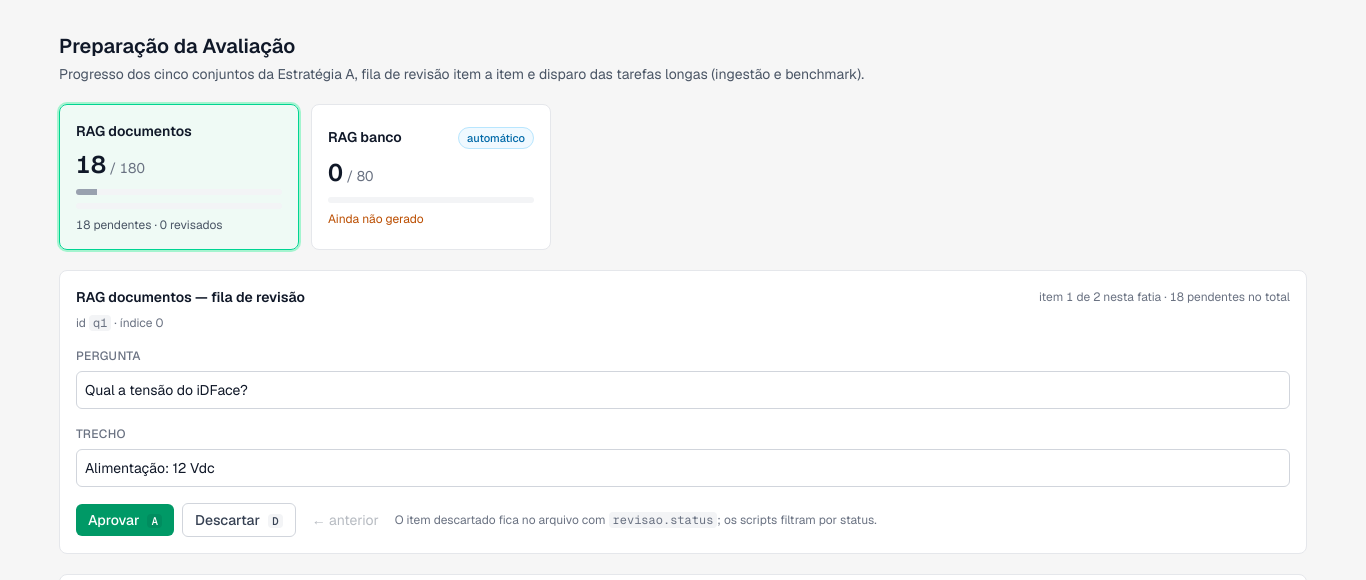
Test: AdminDatasetsPage › aprovar grava sem campos e avança para o item seguinte
Expected: the field showing "Qual a tensão do iDFace?" is shown, [76, 371, 1290, 409]
Click the button "Aprovar": (125, 520) [76, 504, 174, 536]
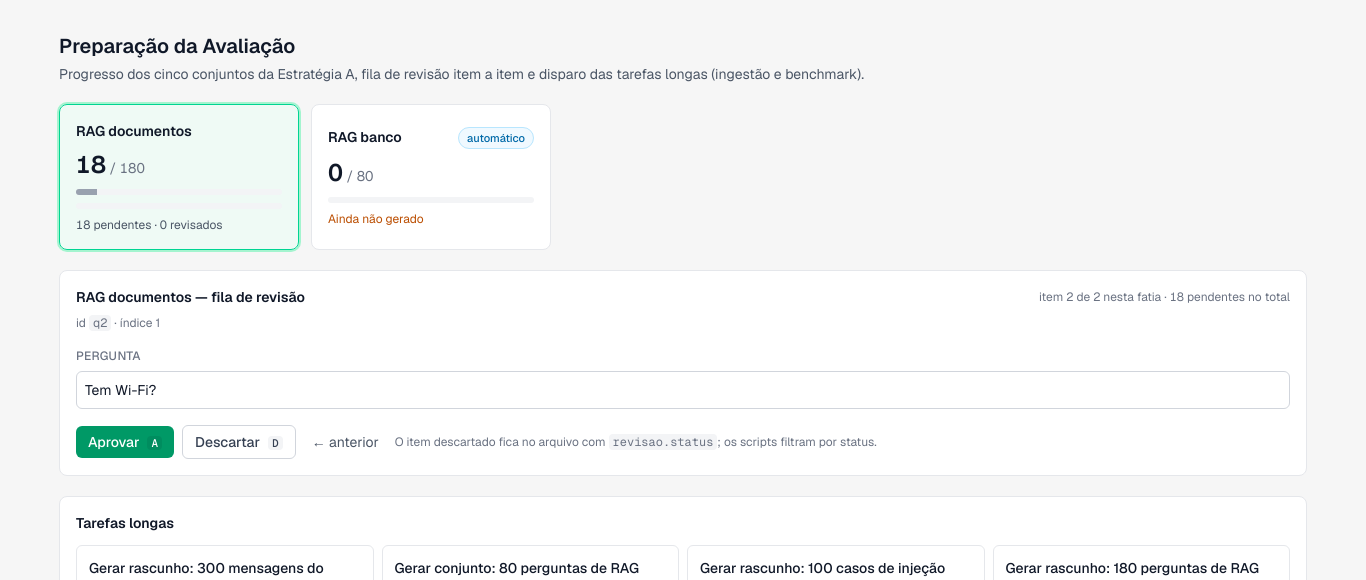
Expected: the field showing "Tem Wi-Fi?" is shown, [76, 371, 1290, 409]
